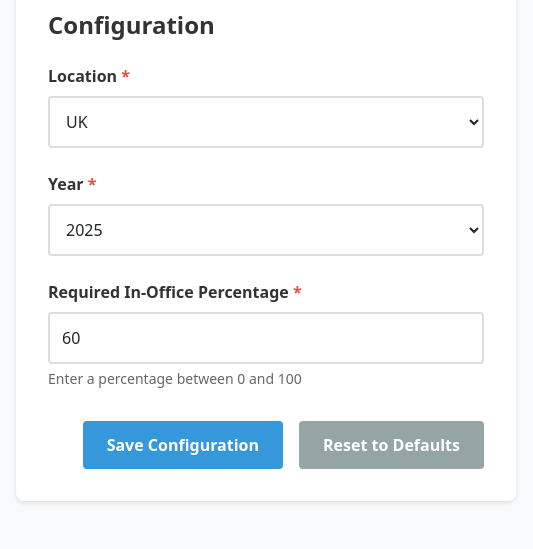
Scenario: ConfigurationForm › Form Validation › shows error when percentage is out of range
// Set invalid percentage
Replace the text in the number field labelled "Required In-Office Percentage *" with "150": point(266, 338) left=48, top=312, right=484, bottom=364
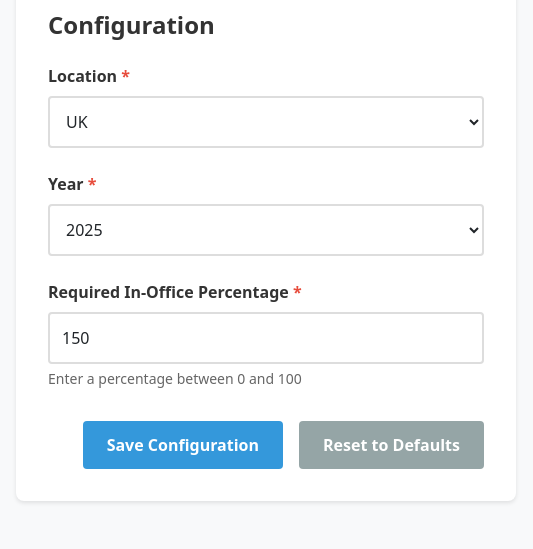
Click the button "Save Configuration": point(183, 445) left=83, top=421, right=283, bottom=469
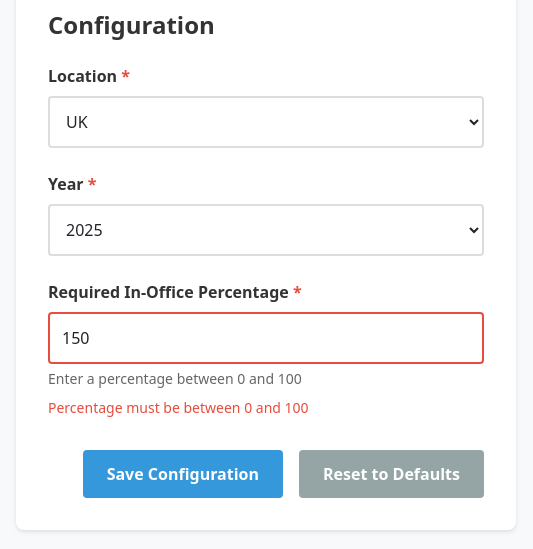
Now the text "Percentage must be between 0 and 100" is shown, box left=48, top=398, right=309, bottom=417
